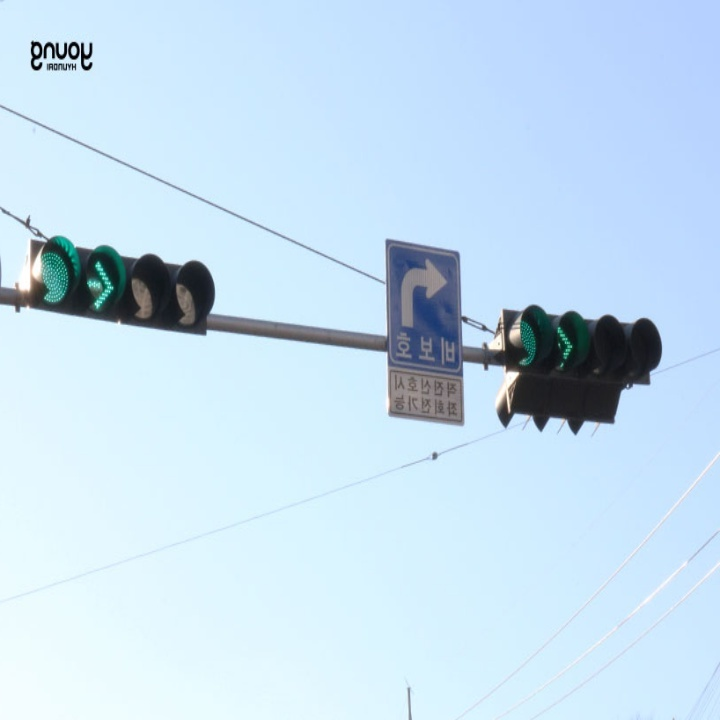right: (395, 245, 449, 335)
